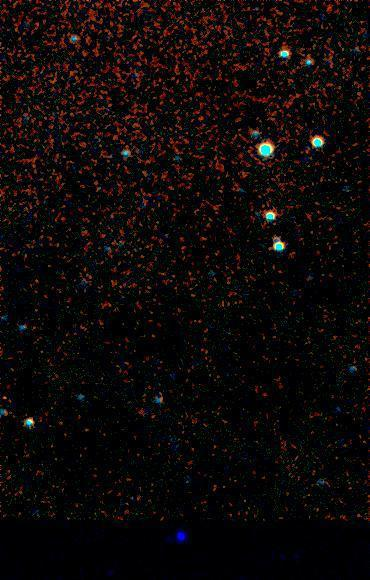star: (0, 381, 26, 411)
